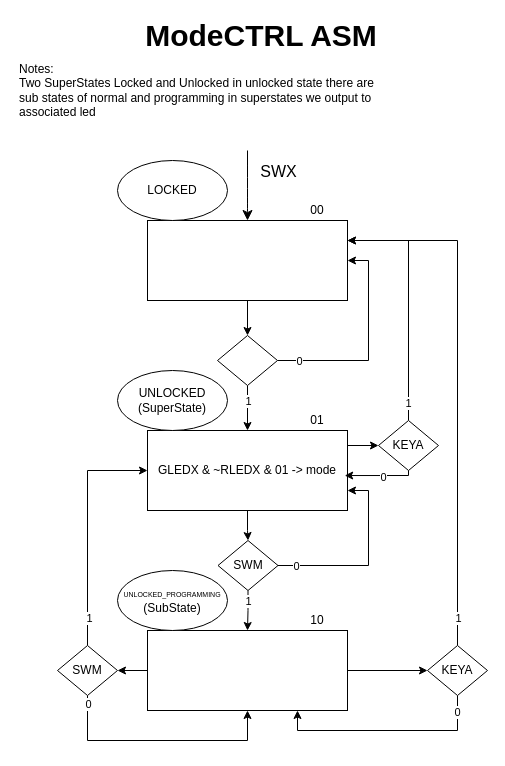
The diagram is 505 pixels wide and 766 high, and some of its shapes have lost their labels. The centre of each missing label's shape, as x and y in pixels:
GLEDX & RLEDX & 10 -> mode: (x=247, y=670)
RLEDX & ~GLEDX & 00 -> mode: (x=247, y=260)
unlock: (x=247, y=360)
